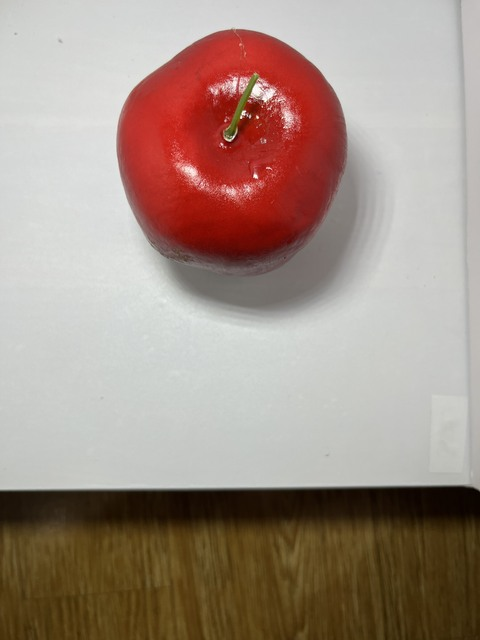Tao: (109, 28, 357, 281)
